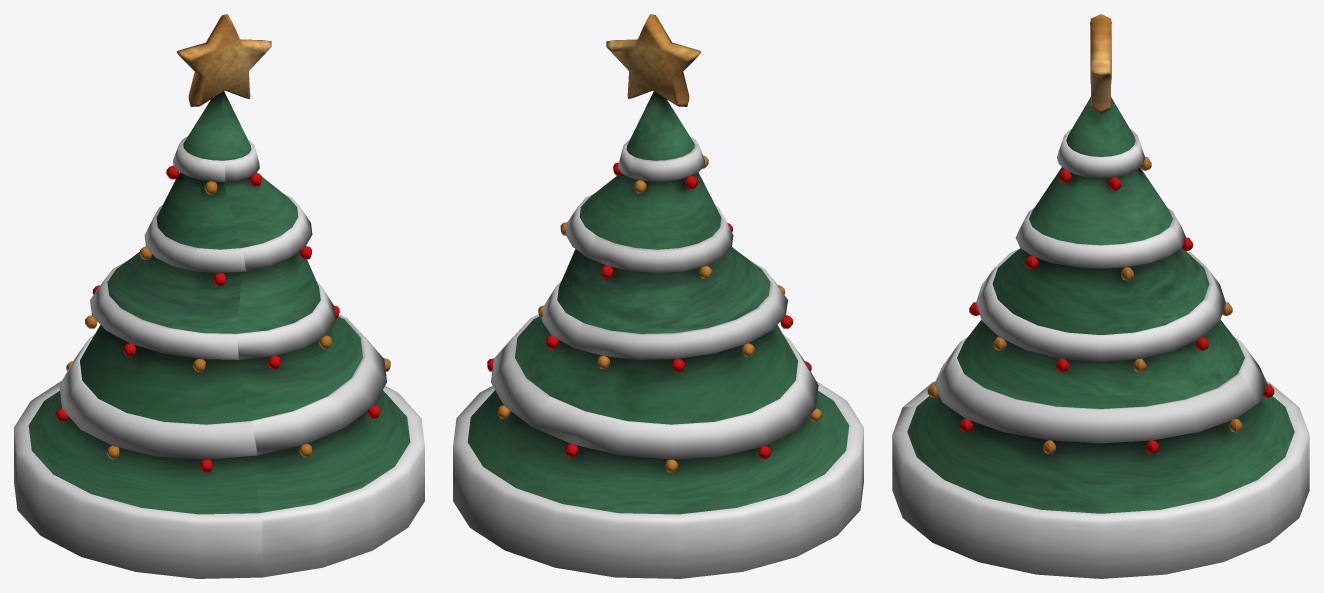
File: ChristmasTree.obj
3 renders of one model, left to right at view 1: azimuth 30°, elevation 25°; view 2: azimuth 150°, elevation 25°; view 3: azimuth 270°, elevation 25°, orthographic.
Visible parts, largest first — view 1: Handle1; view 2: Handle1; view 3: Handle1.
Part boxes in pixels (<box>): Handle1: <box>14,14,424,578</box>; Handle1: <box>453,14,863,578</box>; Handle1: <box>892,14,1309,578</box>.
Bounding box in the file's own units: 1.39 × 1.76 × 1.39.
Materials: 1 (1 with a texture image).
